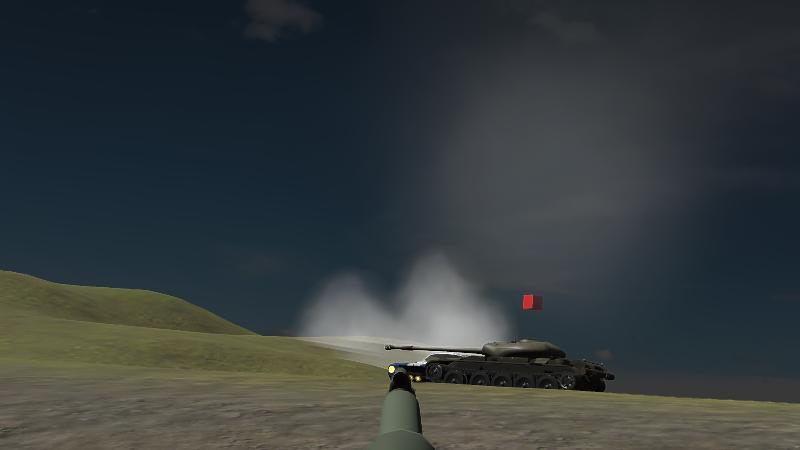Tank: (385, 336, 618, 399)
